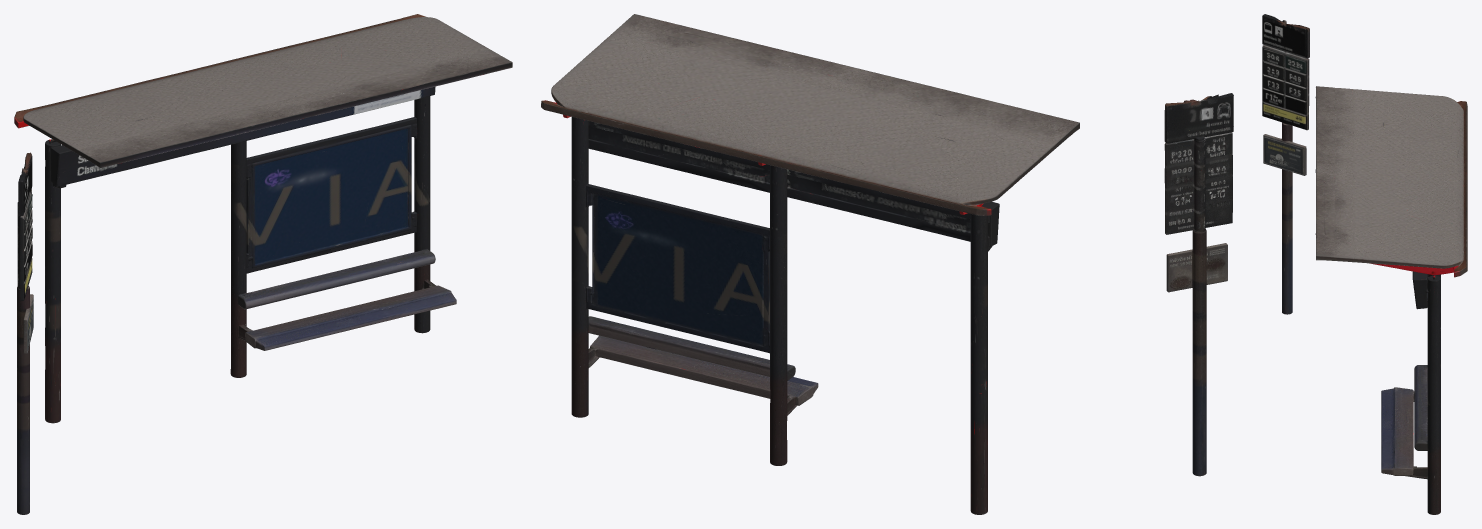
The model's file is bus-stop.glb.
3 views of the same model, side by side, from view 1: azimuth 30°, elevation 25°; view 2: azimuth 150°, elevation 25°; view 3: azimuth 270°, elevation 25° (orthographic). The views are drawn at different scales.
Bounding box in the file's own units: 1.9 × 1.2 × 0.7659.
Materials: 1 (1 with a texture image).
